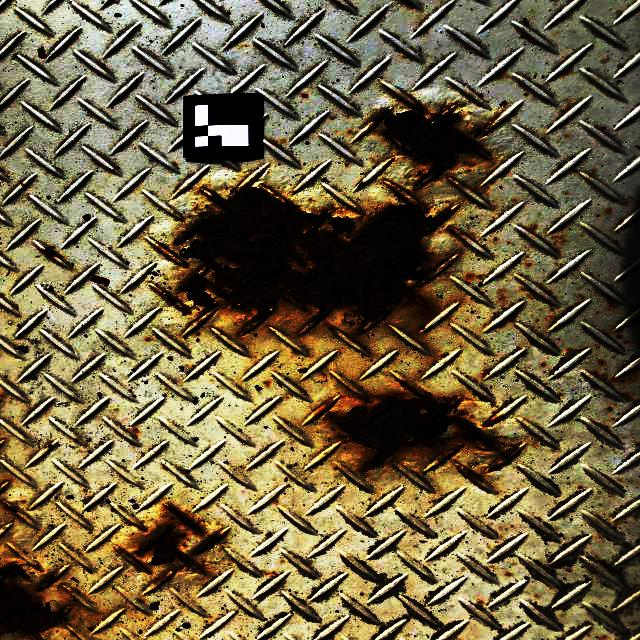Corrosion: (153, 177, 456, 344), (312, 378, 522, 483), (365, 92, 503, 192), (119, 502, 224, 586), (0, 560, 70, 640), (590, 368, 640, 383), (0, 498, 27, 523), (40, 248, 63, 262), (447, 227, 466, 242), (466, 93, 482, 107), (471, 186, 489, 193), (561, 107, 574, 116), (566, 348, 582, 355), (42, 443, 54, 452), (496, 71, 505, 80), (482, 369, 491, 378), (571, 168, 579, 174), (605, 208, 613, 214), (530, 224, 538, 230), (562, 70, 571, 75), (465, 274, 474, 279), (540, 362, 547, 368), (636, 442, 640, 449), (609, 408, 614, 412), (518, 348, 522, 350)
